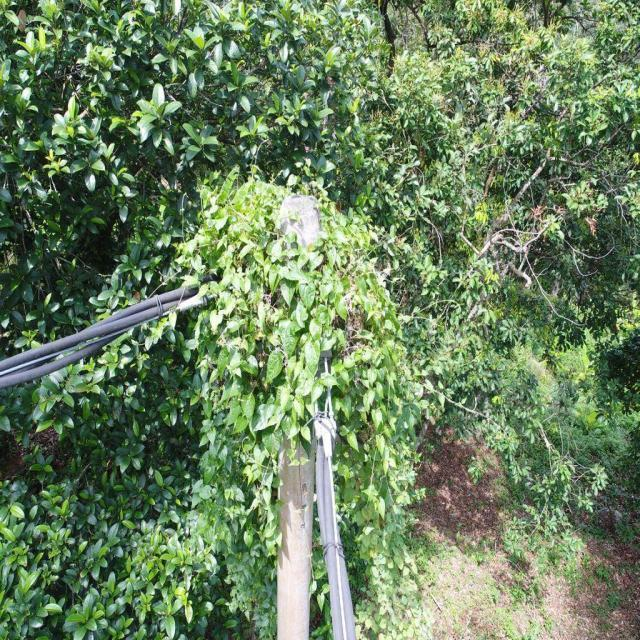critical vegetation: (174, 154, 422, 587)
